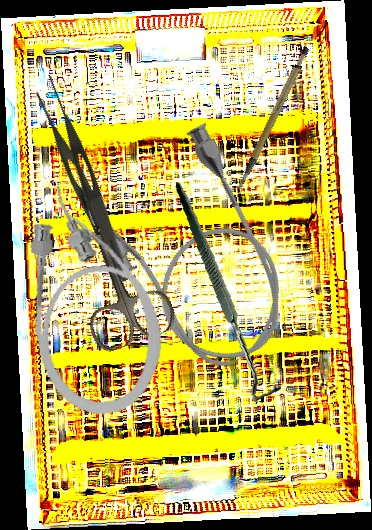Cannula: (66, 110, 311, 392), (14, 174, 172, 422)
Dressing Forceps: (21, 72, 153, 284)
Hook Surgical: (154, 181, 302, 403)
Iris Scissors: (46, 181, 180, 357)
Scalpel Handle: (216, 44, 328, 190)
